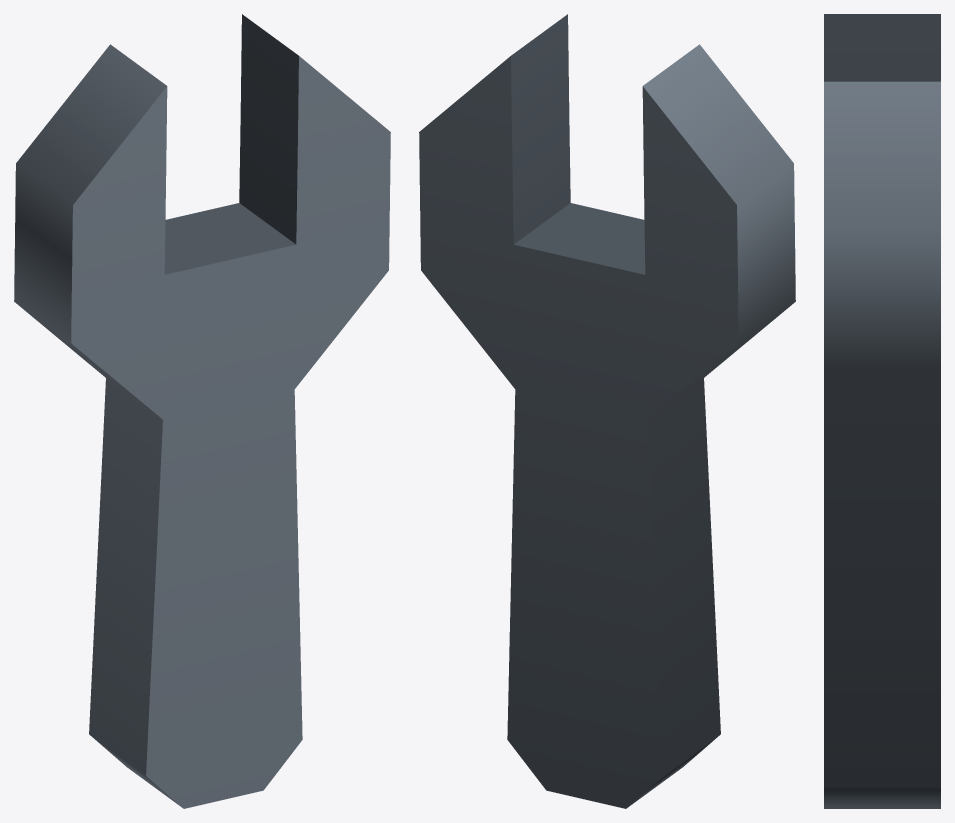
File: wrench-tool.fbx
The picture shows the model from 3 angles, left to right: view 1: azimuth 30°, elevation 25°; view 2: azimuth 150°, elevation 25°; view 3: azimuth 270°, elevation 25°; orthographic projection. The views are drawn at different scales.
Parts seen in each view (by area): view 1: wrench; view 2: wrench; view 3: wrench.
Part boxes in pixels (x1,y1,x2,y2): wrench: [14, 14, 390, 808]; wrench: [419, 14, 795, 808]; wrench: [824, 14, 940, 808].
Size of the model in its own units: 0.1565 by 0.3407 by 0.0484.
